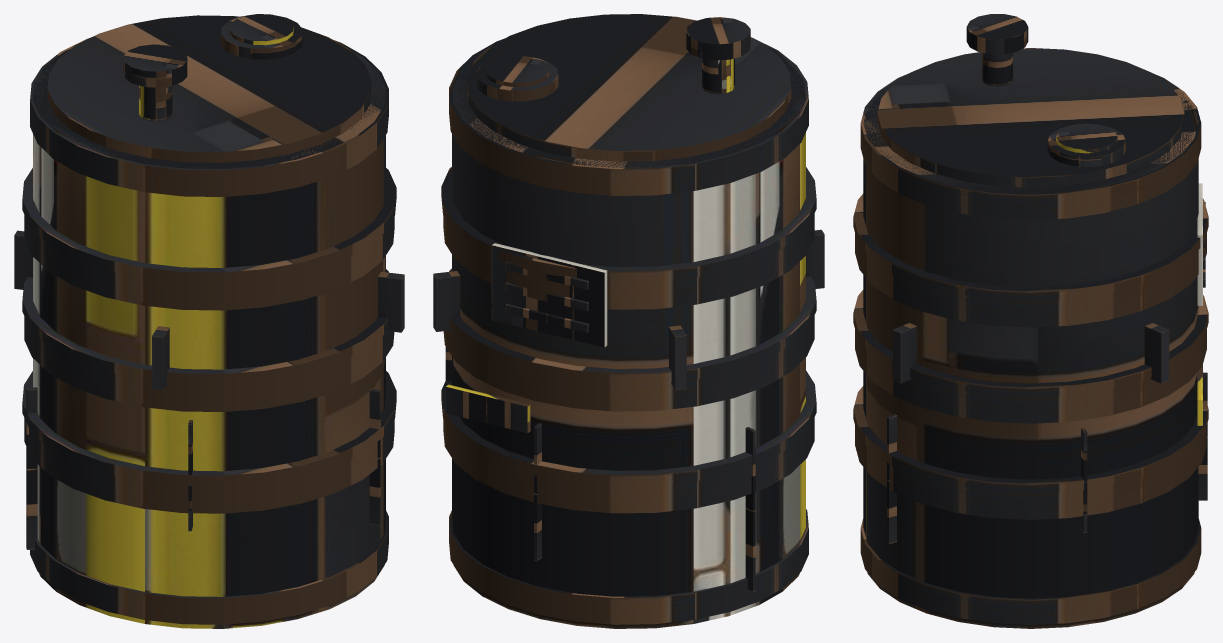
Rendered from PR_barrel.glb.
3 renders of one model, left to right at view 1: azimuth 30°, elevation 25°; view 2: azimuth 150°, elevation 25°; view 3: azimuth 270°, elevation 25°, orthographic. The views are drawn at different scales.
Parts seen in each view (by area): view 1: PR_barrel; view 2: PR_barrel; view 3: PR_barrel.
Part boxes in pixels (<box>): PR_barrel: <box>14,14,404,628</box>; PR_barrel: <box>433,14,824,628</box>; PR_barrel: <box>853,14,1208,628</box>.
Bounding box in the file's own units: 0.636 × 0.985 × 0.636.
1 material, 1 textured.
